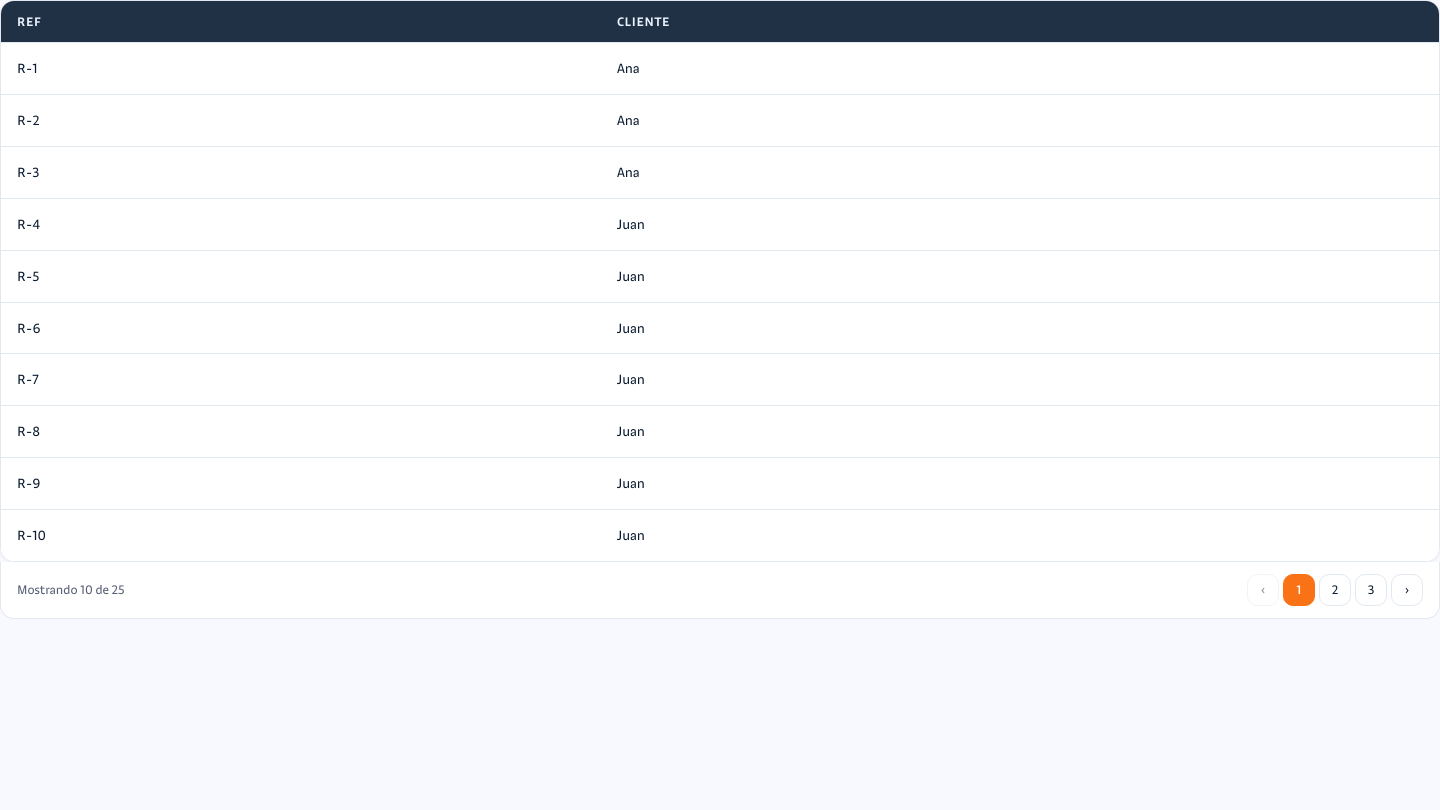
Test case: DataTableComponent › pagina localmente cuando recibe todas las filas y la búsqueda vuelve a la primera página
Click the button named "Página 3": {"x": 1371, "y": 590} [1355, 574, 1387, 606]
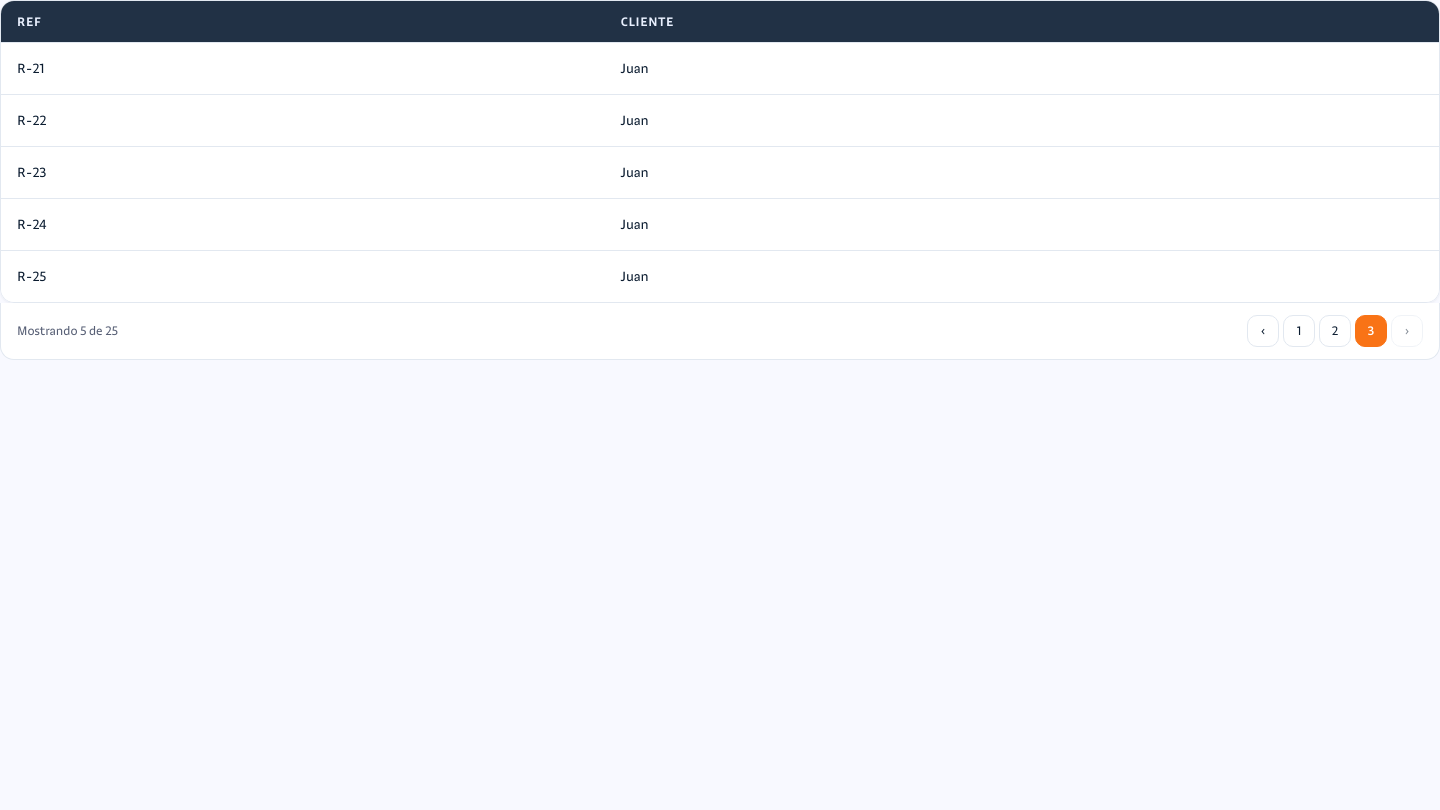
Check: the cell "R-21" is shown, box [1, 43, 605, 95]
